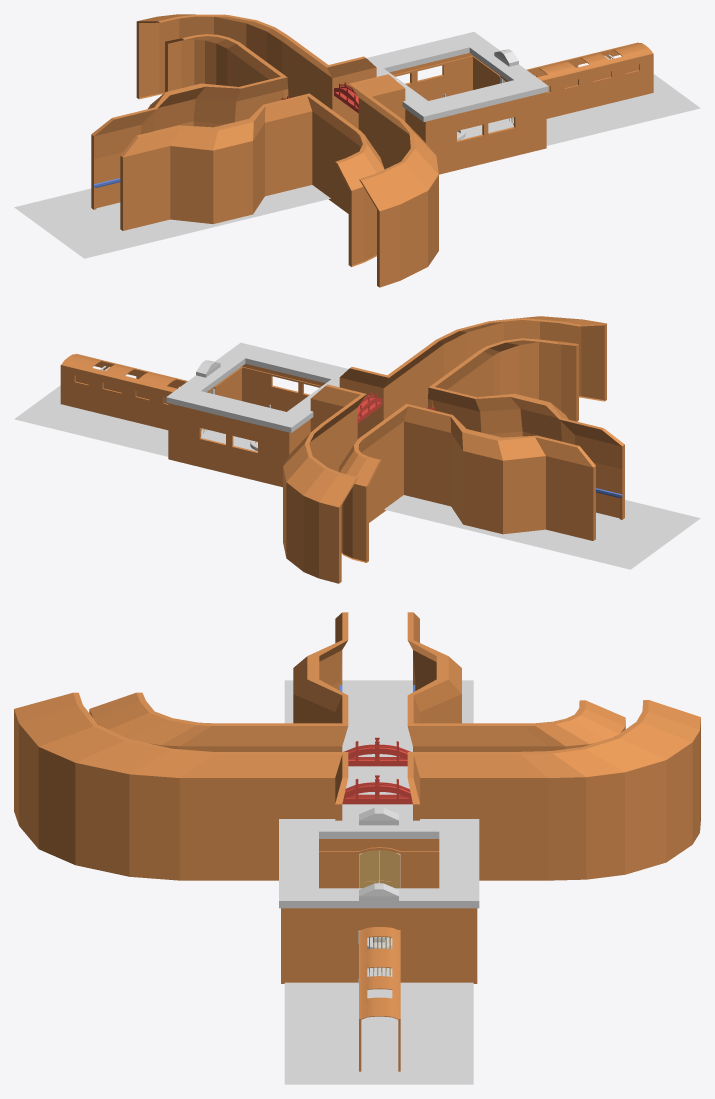
Rendered from Escenario.fbx.
The picture shows the model from 3 angles, top to bottom: view 1: azimuth 30°, elevation 25°; view 2: azimuth 150°, elevation 25°; view 3: azimuth 270°, elevation 25°; orthographic projection. The views are drawn at different scales.
Parts seen in each view (by area): view 1: piso3, Plane, muros, Cube.002, Cube, Cube.003; view 2: piso3, Plane, muros, Cube.002, Cube, Cube.003; view 3: piso3, Plane, muros, Cube.002, Cube, Cube.003, Cube.005, puerta.
Part boxes in pixels (x1,y1,x2,y2): piso3: (91,14,438,287); Plane: (14,74,700,258); muros: (389,53,546,174); Cube.002: (366,32,548,121); Cube: (526,42,653,118); Cube.003: (334,82,358,113); piso3: (283,316,624,583); Plane: (14,385,700,569); muros: (168,364,325,487); Cube.002: (166,342,348,432); Cube: (60,353,187,430); Cube.003: (357,392,382,423); piso3: (14,612,700,880); Plane: (284,680,473,1084); muros: (281,839,477,983); Cube.002: (279,807,479,908); Cube: (359,927,400,1071); Cube.003: (342,775,412,804); Cube.005: (343,737,410,766); puerta: (359,850,379,888).
Size of the model in its own units: 28733 by 4010 by 20629.
